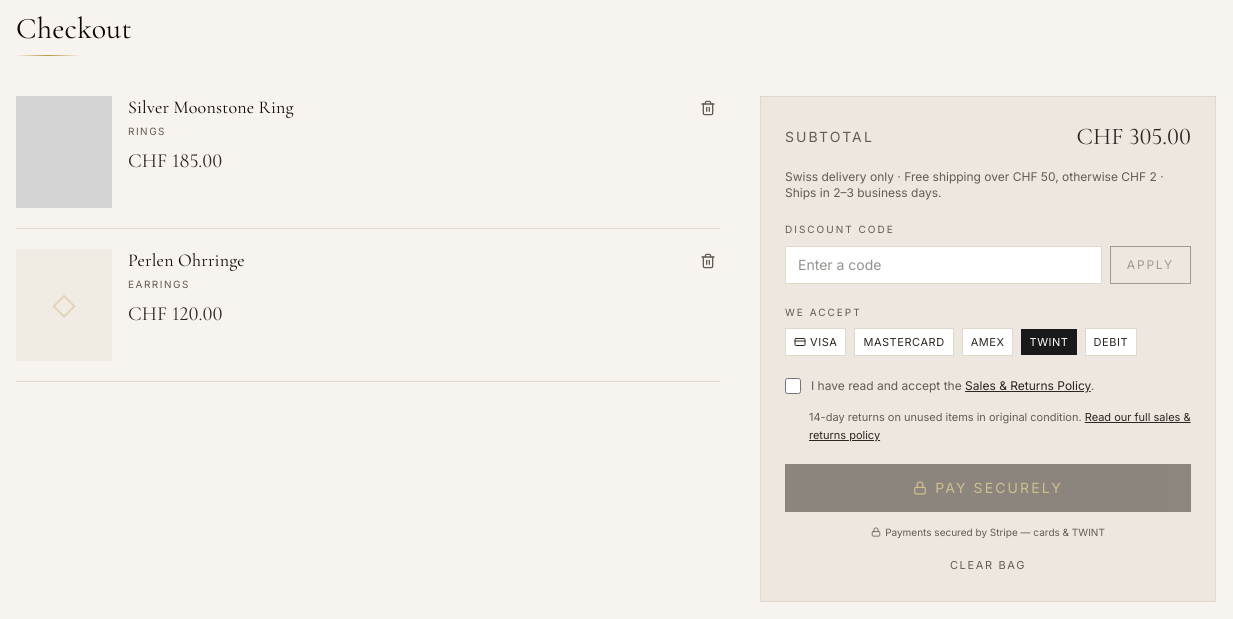
Test: Checkout page › clears the bag and navigates back to the shop
Click the button "Clear bag" at x=988, y=565, box [785,556,1191,574]
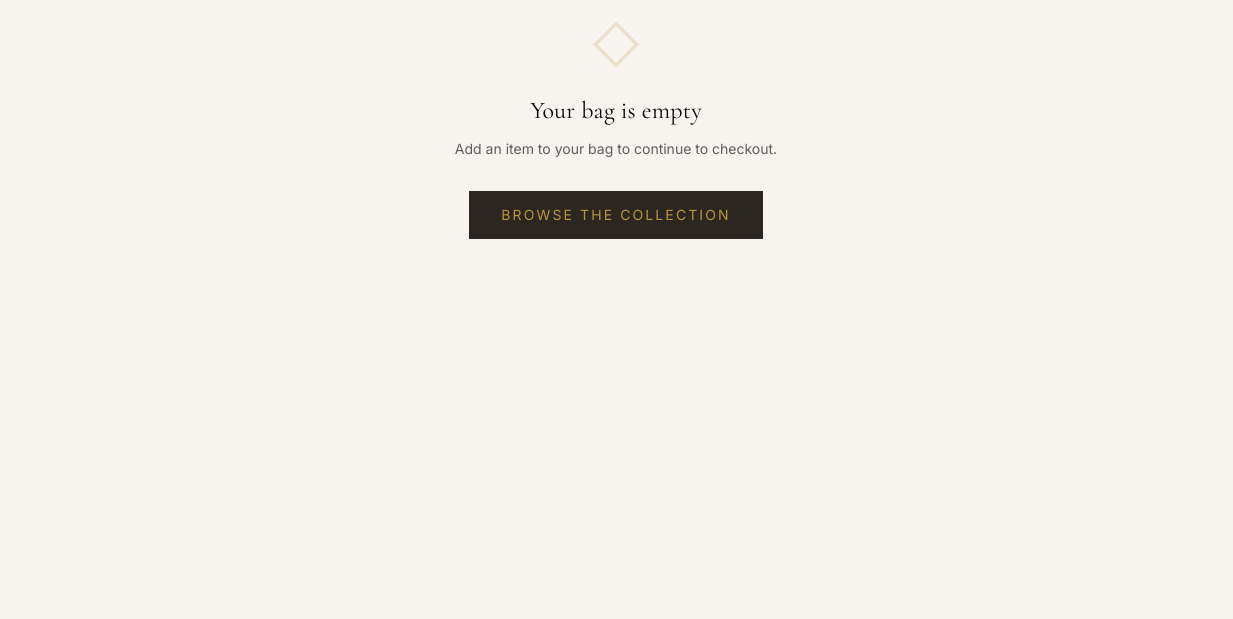
Expected: the heading "Your bag is empty" is shown, [530,96,702,125]
